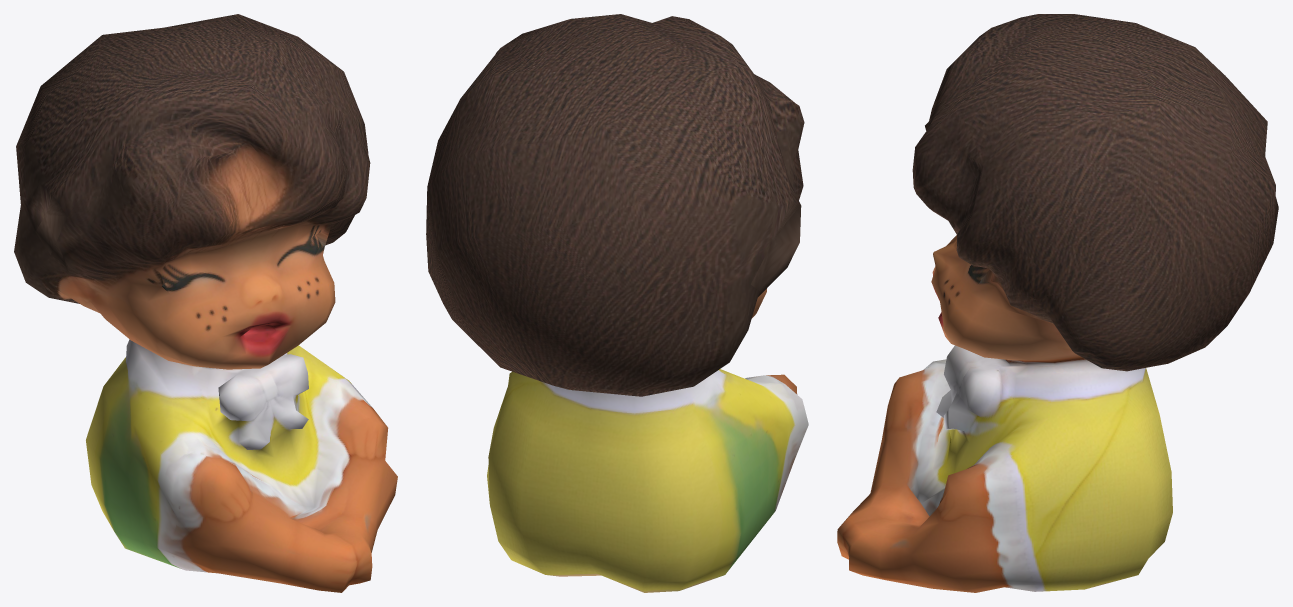
The model's file is YellowDoll.fbx.
3 views of the same model, side by side, from view 1: azimuth 30°, elevation 25°; view 2: azimuth 150°, elevation 25°; view 3: azimuth 270°, elevation 25° (orthographic). The views are drawn at different scales.
Parts seen in each view (by area): view 1: tripo_node_60059937.001; view 2: tripo_node_60059937.001; view 3: tripo_node_60059937.001.
Boxes of the visible parts, <box> form: tripo_node_60059937.001: <box>14,14,397,592</box>; tripo_node_60059937.001: <box>426,14,808,592</box>; tripo_node_60059937.001: <box>837,14,1278,592</box>.
Bounding box in the file's own units: 33.38 × 49.94 × 39.46.
Materials: 1 (1 with a texture image).
